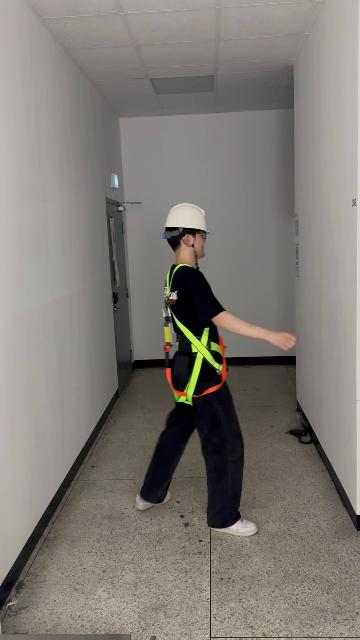helmet_worn: (161, 202, 214, 235)
shoe_not_worn: (208, 519, 257, 540), (134, 490, 169, 510)
vest_worn: (162, 272, 227, 409)
